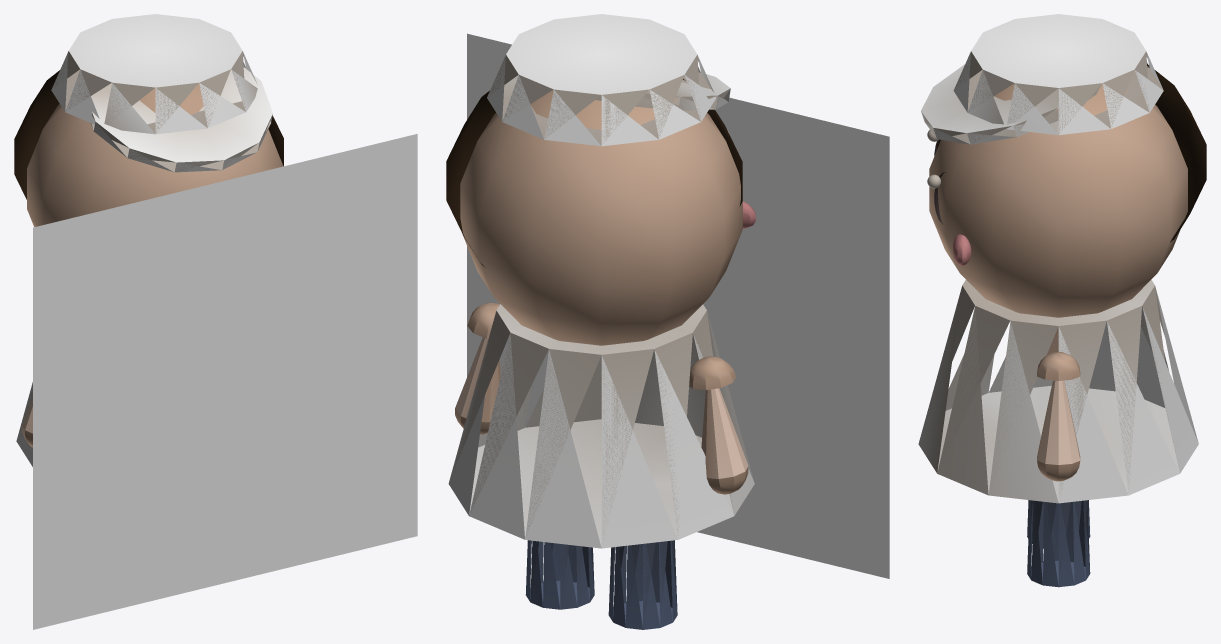
3 renders of one model, left to right at view 1: azimuth 30°, elevation 25°; view 2: azimuth 150°, elevation 25°; view 3: azimuth 270°, elevation 25°, orthographic. The views are drawn at different scales.
Visible parts, largest first — view 1: pet_pb6d000bb; view 2: pet_pb6d000bb; view 3: pet_pb6d000bb.
Part boxes in pixels (x1,y1,x2,y2): pet_pb6d000bb: [14, 14, 417, 629]; pet_pb6d000bb: [446, 14, 889, 629]; pet_pb6d000bb: [918, 14, 1206, 587].
Size of the model in its own units: 0.51 by 0.635 by 0.3287.
